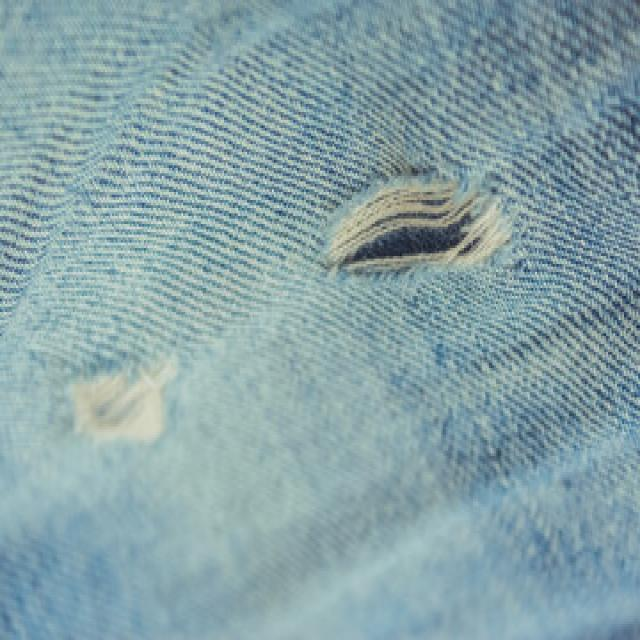Hole: (329, 176, 512, 271), (70, 356, 176, 442)
